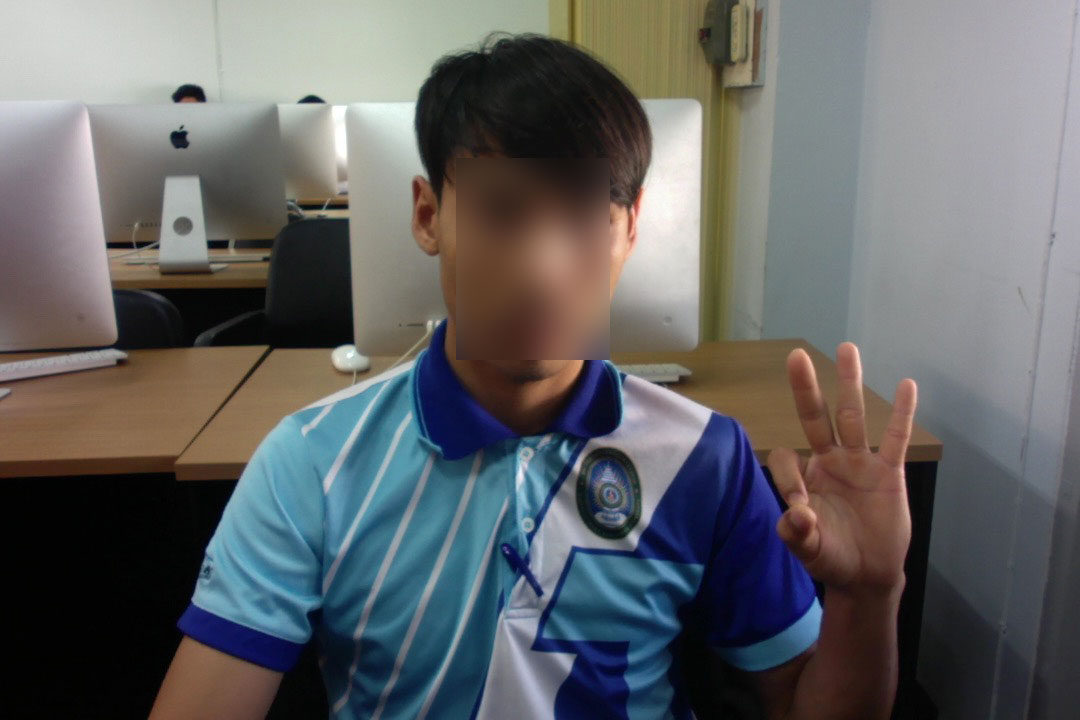for: (753, 325, 929, 617)
